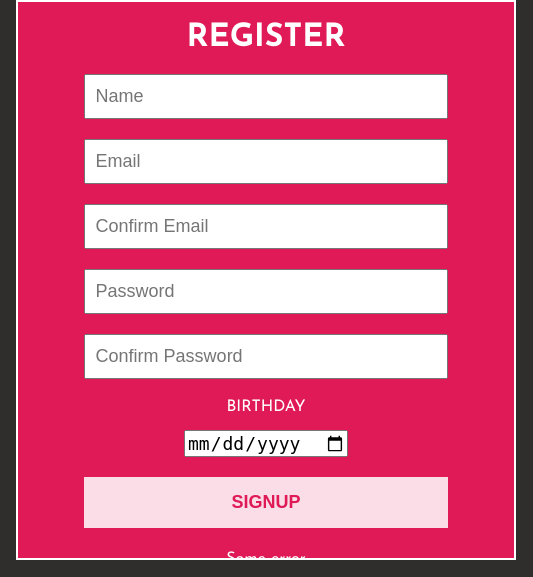
Test: Register container tests › Form errors and interactions › should throw errors in password field
The image size is (533, 577).
Type "T" into the password field with placeholder "Password".
click(266, 292); type("T")  # box top-left (84, 269), bottom-right (448, 314)
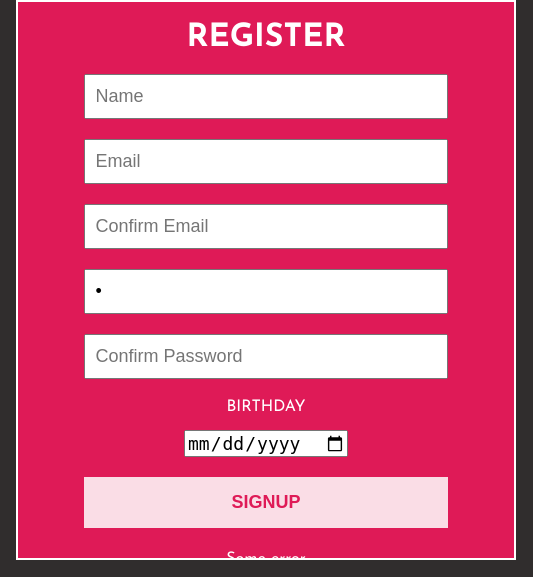
Click the button.
click(266, 502)  # box top-left (84, 477), bottom-right (448, 528)
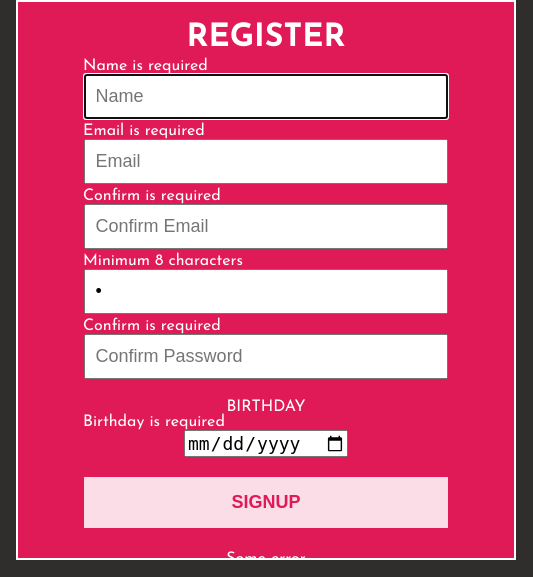
Expected: the text "Minimum 8 characters" is shown, top-left (83, 253), bottom-right (243, 269)
Type "TestTestt" into the password field with placeholder "Password".
click(266, 292); type("TestTestt")  # box top-left (84, 269), bottom-right (448, 314)
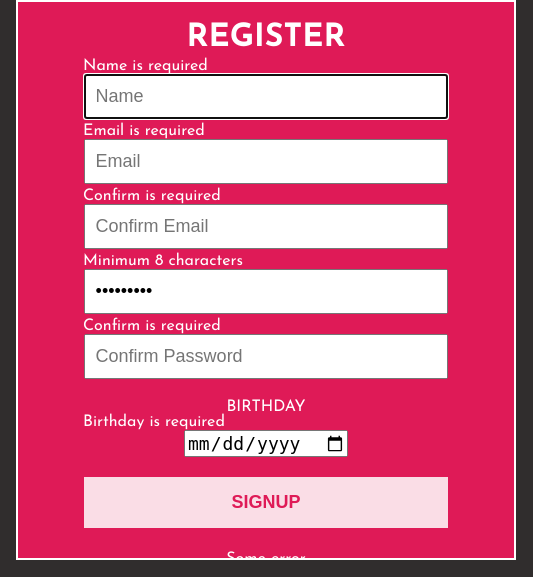
Click the button.
click(266, 502)  # box top-left (84, 477), bottom-right (448, 528)
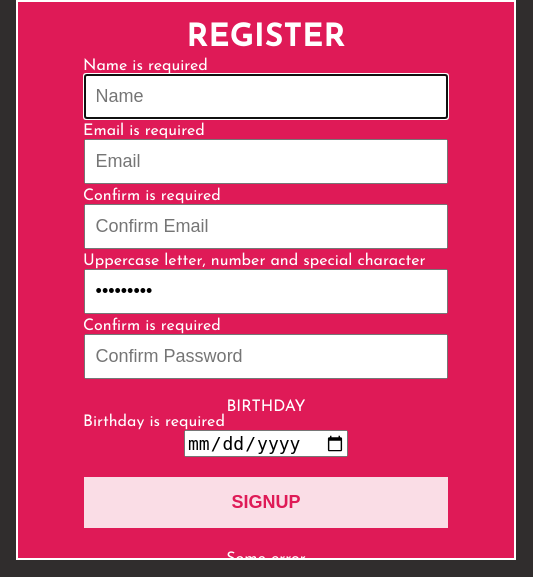
Expected: the text "Uppercase letter, number and special character" is shown, top-left (83, 253), bottom-right (426, 269)
